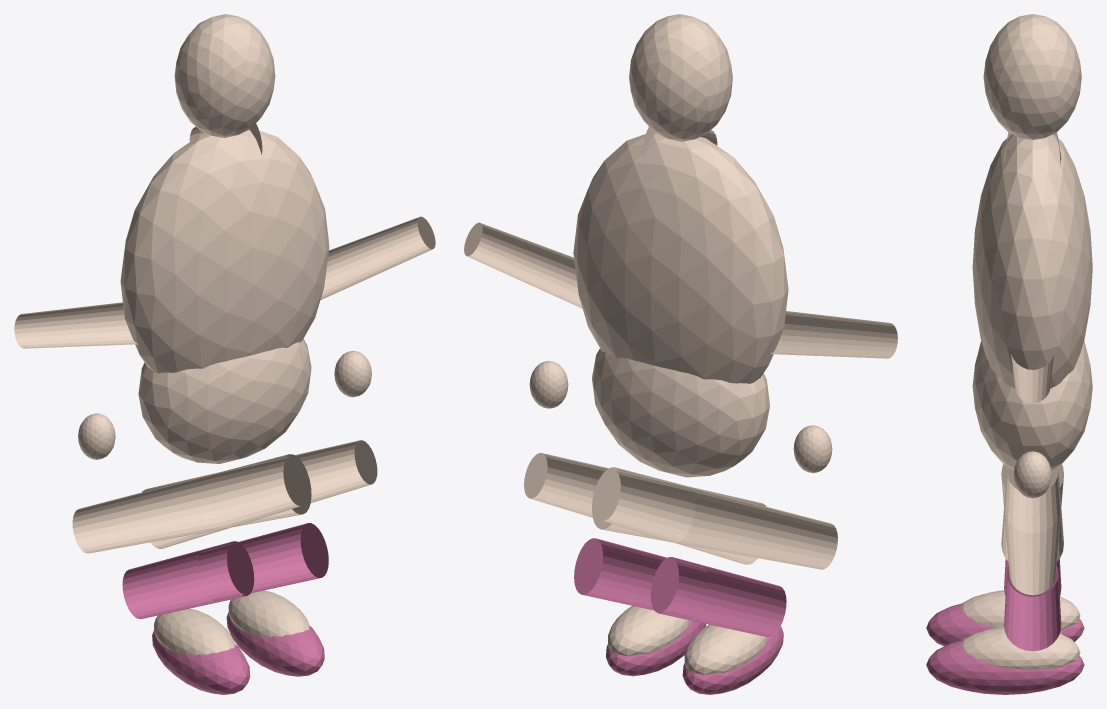
File: masculino-botas.glb
The picture shows the model from 3 angles, left to right: view 1: azimuth 30°, elevation 25°; view 2: azimuth 150°, elevation 25°; view 3: azimuth 270°, elevation 25°; orthographic projection. The views are drawn at different scales.
Parts seen in each view (by area): view 1: Avatar0, Prenda, Avatar1, Avatar3, Avatar4, Avatar8, Avatar10, Avatar6, Avatar5, Avatar9, Avatar7, Avatar11; view 2: Avatar0, Prenda, Avatar1, Avatar3, Avatar4, Avatar8, Avatar10, Avatar6, Avatar5, Avatar9, Avatar11, Avatar7; view 3: Avatar0, Prenda, Avatar3, Avatar1, Avatar8, Avatar9, Avatar4, Avatar5, Avatar11, Avatar10.
Boxes of the visible parts, bbox=[...] form: Avatar0: bbox=[120, 129, 329, 373]; Prenda: bbox=[122, 523, 328, 694]; Avatar1: bbox=[138, 339, 311, 463]; Avatar3: bbox=[174, 14, 275, 137]; Avatar4: bbox=[72, 454, 311, 553]; Avatar8: bbox=[142, 440, 377, 548]; Avatar10: bbox=[320, 216, 435, 299]; Avatar6: bbox=[14, 302, 138, 348]; Avatar5: bbox=[154, 608, 235, 655]; Avatar9: bbox=[228, 590, 309, 636]; Avatar7: bbox=[78, 413, 115, 459]; Avatar11: bbox=[334, 350, 371, 397]; Avatar0: bbox=[573, 133, 788, 383]; Prenda: bbox=[574, 538, 786, 694]; Avatar1: bbox=[592, 348, 769, 477]; Avatar3: bbox=[629, 14, 732, 141]; Avatar4: bbox=[592, 467, 837, 569]; Avatar8: bbox=[524, 453, 766, 564]; Avatar10: bbox=[464, 222, 582, 308]; Avatar6: bbox=[770, 311, 897, 358]; Avatar5: bbox=[684, 624, 767, 674]; Avatar9: bbox=[608, 605, 690, 655]; Avatar11: bbox=[529, 360, 568, 408]; Avatar7: bbox=[793, 425, 832, 473]; Avatar0: bbox=[972, 134, 1092, 388]; Prenda: bbox=[926, 559, 1084, 694]; Avatar3: bbox=[983, 14, 1081, 140]; Avatar1: bbox=[972, 341, 1092, 470]; Avatar8: bbox=[1001, 464, 1063, 595]; Avatar9: bbox=[961, 627, 1080, 669]; Avatar4: bbox=[1001, 471, 1063, 561]; Avatar5: bbox=[961, 590, 1080, 629]; Avatar11: bbox=[1013, 451, 1051, 498]; Avatar10: bbox=[1011, 354, 1054, 403].
Size of the model in its own units: 1.75 by 2.65 by 0.61.
